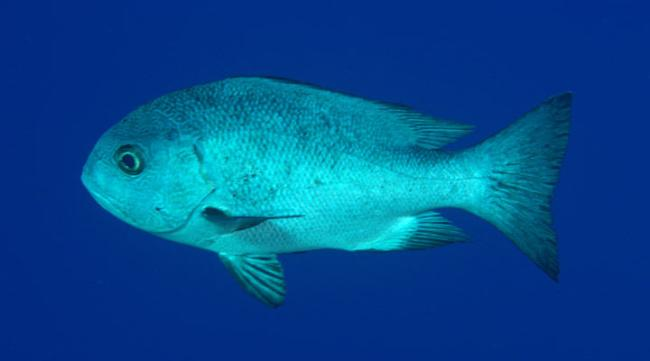fish: (79, 75, 574, 308)
